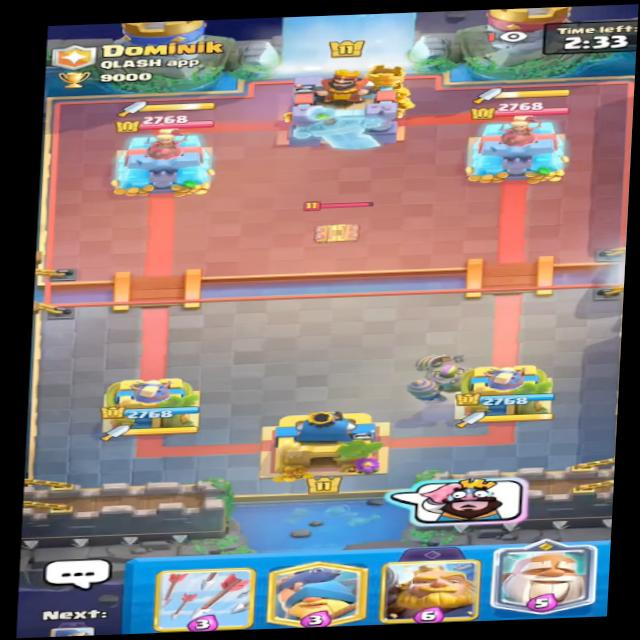tesla-closed: (291, 192, 387, 249)
